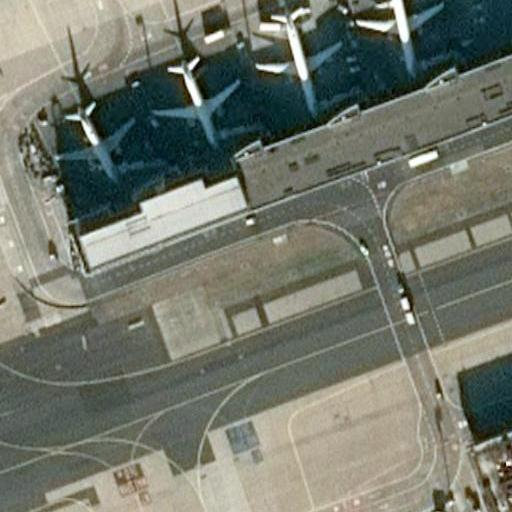Aircraft: (249, 0, 343, 114), (151, 42, 245, 150), (46, 93, 138, 186), (347, 0, 444, 76)
